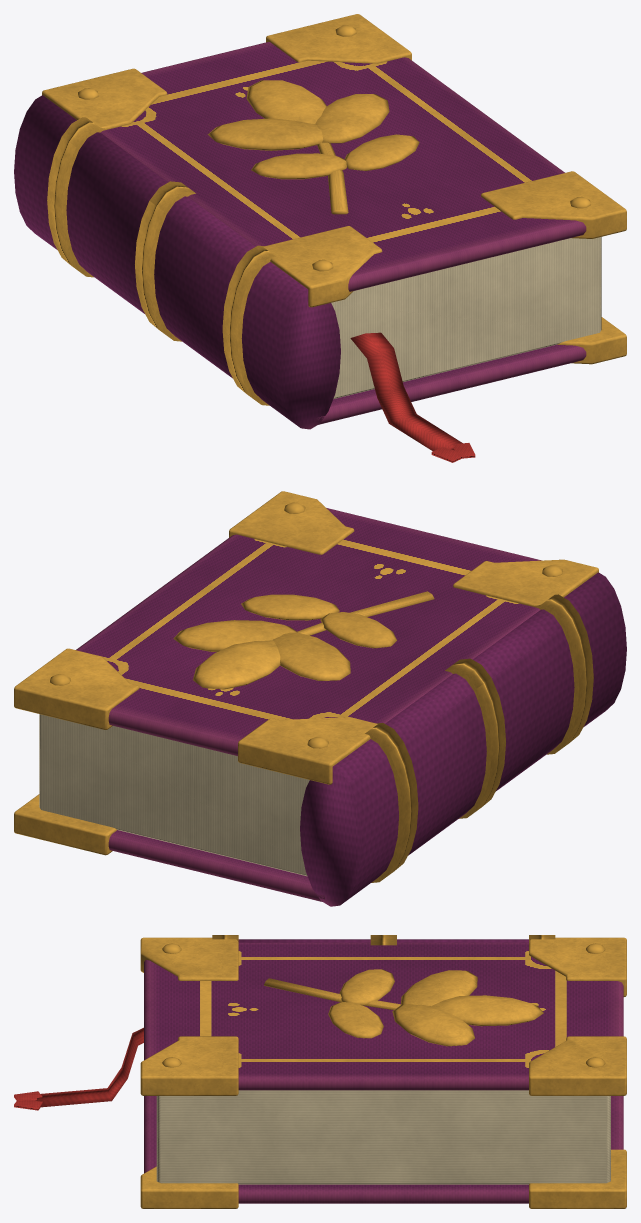
The model's file is book_plum.glb.
3 renders of one model, top to bottom at view 1: azimuth 30°, elevation 25°; view 2: azimuth 150°, elevation 25°; view 3: azimuth 270°, elevation 25°, orthographic. The views are drawn at different scales.
Visible parts, largest first — view 1: model; view 2: model; view 3: model.
Part boxes in pixels (x1=…): model: x1=14, y1=14, x2=626, y2=462; model: x1=14, y1=491, x2=626, y2=906; model: x1=14, y1=935, x2=626, y2=1208.
Bounding box in the file's own units: 0.1718 × 0.0732 × 0.2874.
5 materials, 5 textured.
